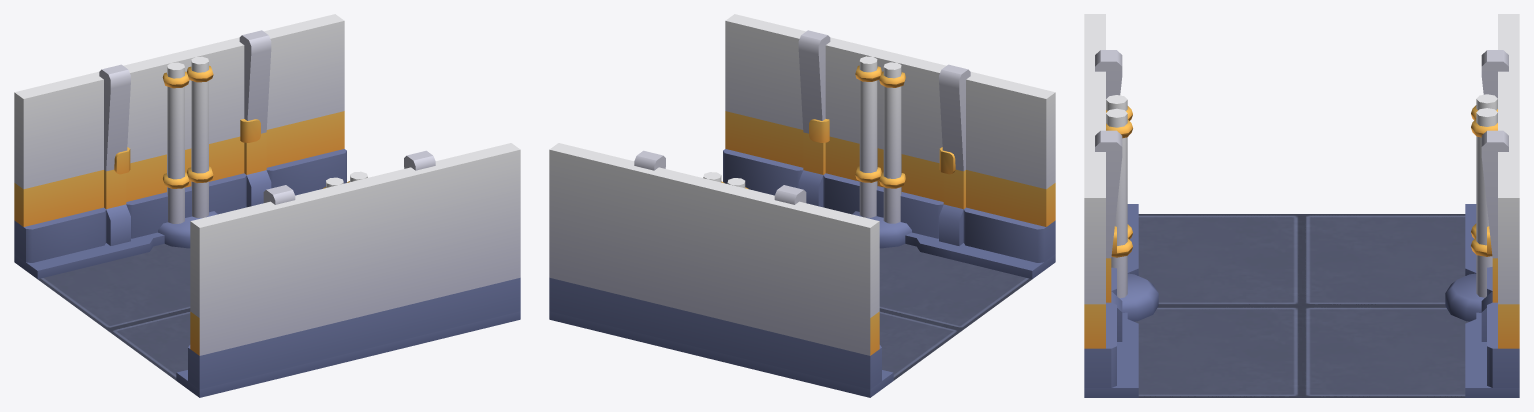
Rendered from kenney-space-corridor-wide.glb.
The picture shows the model from 3 angles, left to right: view 1: azimuth 30°, elevation 25°; view 2: azimuth 150°, elevation 25°; view 3: azimuth 270°, elevation 25°; orthographic projection. The views are drawn at different scales.
Parts seen in each view (by area): view 1: corridor-wide; view 2: corridor-wide; view 3: corridor-wide.
Part boxes in pixels (x1,y1,x2,y2): corridor-wide: (14,14,520,397); corridor-wide: (549,14,1055,397); corridor-wide: (1084,14,1519,397).
Size of the model in its own units: 6 by 3.19 by 6.
Materials: 1 (1 with a texture image).
